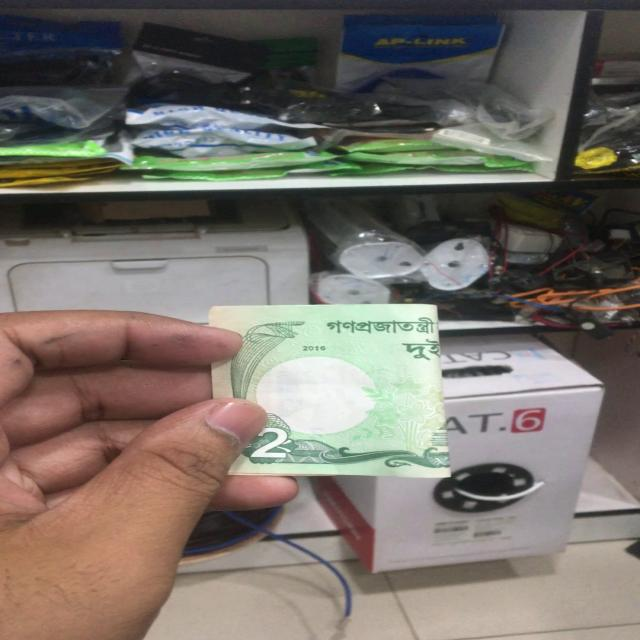Taka: (235, 309, 455, 481)
